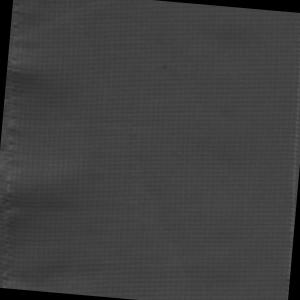Wrinkle: (1, 1, 114, 296)
